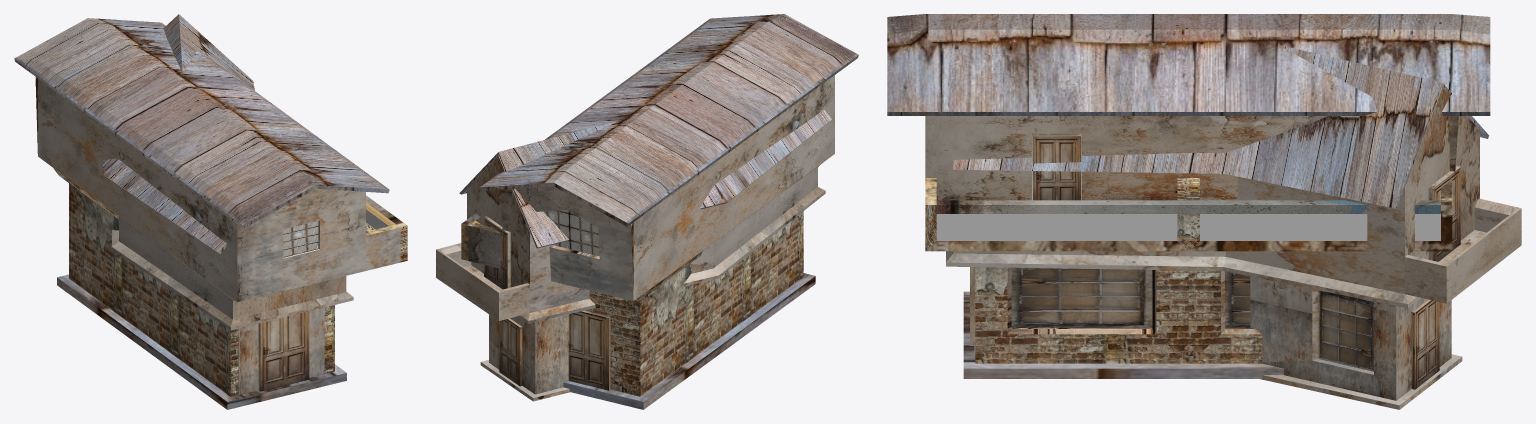
Rendered from Bulding 3 and 4.fbx.
3 views of the same model, side by side, from view 1: azimuth 30°, elevation 25°; view 2: azimuth 150°, elevation 25°; view 3: azimuth 270°, elevation 25° (orthographic). The views are drawn at different scales.
Parts seen in each view (by area): view 1: Bulding 4, Buldimg 3; view 2: Bulding 4, Buldimg 3; view 3: Bulding 4, Buldimg 3.
Boxes of the visible parts, box(x1,y1,x2,y2) form: Bulding 4: box(14, 18, 407, 409); Buldimg 3: box(103, 14, 353, 395); Bulding 4: box(461, 14, 858, 409); Buldimg 3: box(436, 110, 832, 401); Bulding 4: box(887, 14, 1490, 378); Buldimg 3: box(946, 45, 1521, 409).
Bounding box in the file's own units: 491 × 523 × 965.
